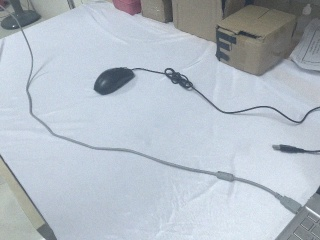box: (215, 1, 301, 77), (172, 1, 224, 42), (141, 1, 173, 23)
mouse: (93, 67, 136, 96)
